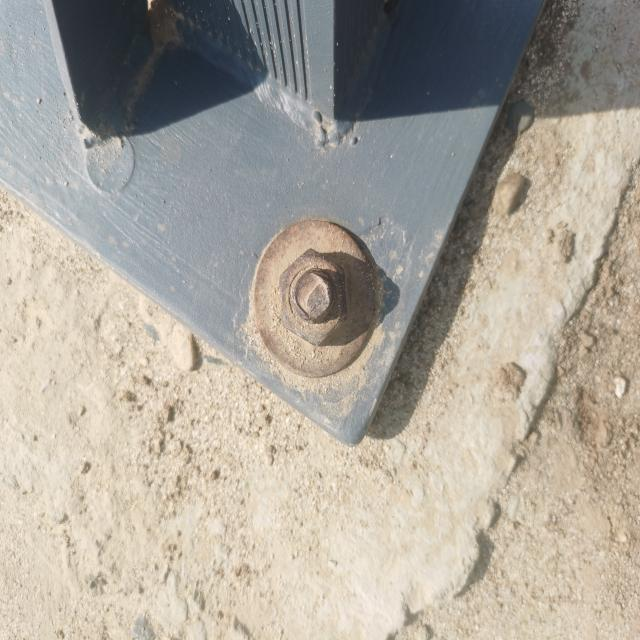bolt nut: (279, 248, 348, 348)
